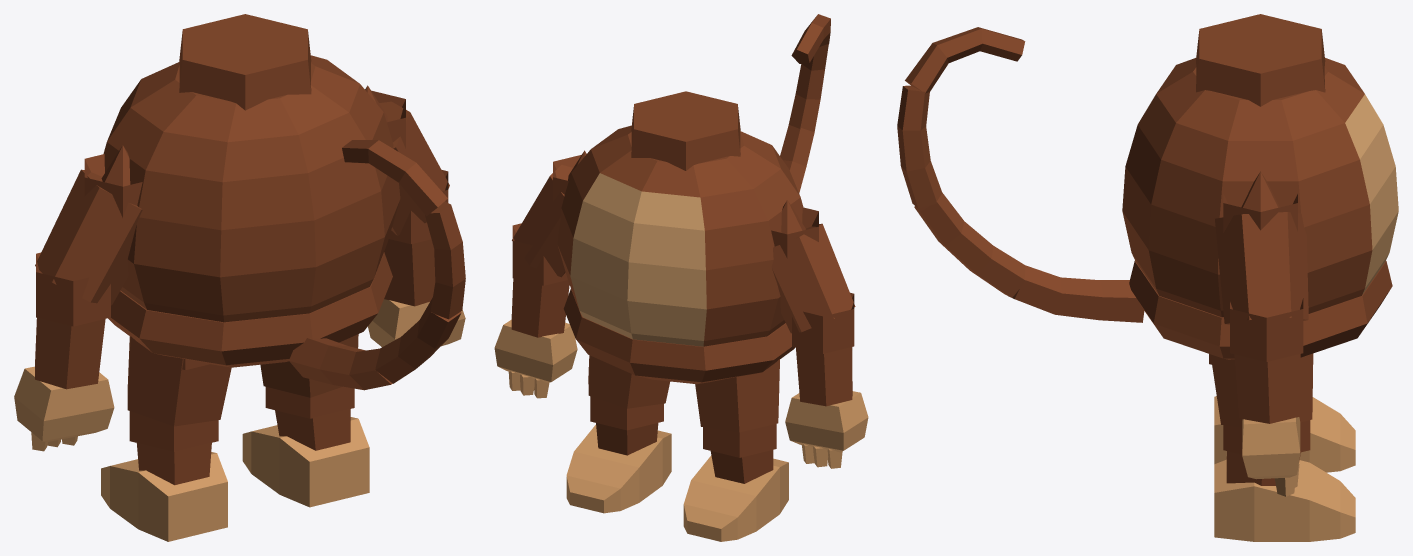
The model's file is ds_monkey_body.glb.
The picture shows the model from 3 angles, left to right: view 1: azimuth 30°, elevation 25°; view 2: azimuth 150°, elevation 25°; view 3: azimuth 270°, elevation 25°; orthographic projection. The views are drawn at different scales.
Parts seen in each view (by area): view 1: DSMonkeyBody_Torso, DSMonkeyBody_Hips, DSMonkeyBody_Arm_L_Upper, DSMonkeyBody_Leg_R_Foot, DSMonkeyBody_Leg_L_Foot, DSMonkeyBody_Arm_L_Fore, DSMonkeyBody_Leg_L_Thigh, DSMonkeyBody_Arm_L_Hand, DSMonkeyBody_Leg_L_Shin, DSMonkeyBody_Leg_R_Shin, DSMonkeyBody_Arm_R_Fore, DSMonkeyBody_Tail_1 (+6 smaller); view 2: DSMonkeyBody_Torso, DSMonkeyBody_Hips, DSMonkeyBody_Arm_L_Upper, DSMonkeyBody_Leg_R_Foot, DSMonkeyBody_Leg_L_Foot, DSMonkeyBody_Arm_L_Fore, DSMonkeyBody_Leg_L_Thigh, DSMonkeyBody_Arm_L_Hand, DSMonkeyBody_Arm_R_Hand, DSMonkeyBody_Arm_R_Fore, DSMonkeyBody_Arm_R_Upper, DSMonkeyBody_Leg_L_Shin (+5 smaller); view 3: DSMonkeyBody_Torso, DSMonkeyBody_Arm_R_Upper, DSMonkeyBody_Leg_R_Foot, DSMonkeyBody_Hips, DSMonkeyBody_Arm_R_Fore, DSMonkeyBody_Tail_1, DSMonkeyBody_Tail_2, DSMonkeyBody_Arm_R_Hand, DSMonkeyBody_Tail_3, DSMonkeyBody_Leg_L_Foot, DSMonkeyBody_Tail_4, DSMonkeyBody_Leg_R_Thigh (+1 smaller).
Boxes of the visible parts, x1=… form: DSMonkeyBody_Torso: x1=103, y1=14, x2=400, y2=322; DSMonkeyBody_Hips: x1=108, y1=252, x2=392, y2=367; DSMonkeyBody_Arm_L_Upper: x1=35, y1=145, x2=142, y2=305; DSMonkeyBody_Leg_R_Foot: x1=242, y1=417, x2=369, y2=507; DSMonkeyBody_Leg_L_Foot: x1=101, y1=452, x2=227, y2=541; DSMonkeyBody_Arm_L_Fore: x1=35, y1=252, x2=110, y2=389; DSMonkeyBody_Leg_L_Thigh: x1=127, y1=336, x2=231, y2=426; DSMonkeyBody_Arm_L_Hand: x1=14, y1=366, x2=114, y2=451; DSMonkeyBody_Leg_L_Shin: x1=129, y1=411, x2=218, y2=485; DSMonkeyBody_Leg_R_Shin: x1=265, y1=386, x2=354, y2=450; DSMonkeyBody_Arm_R_Fore: x1=384, y1=170, x2=448, y2=306; DSMonkeyBody_Tail_1: x1=289, y1=338, x2=392, y2=390; DSMonkeyBody_Torso: x1=557, y1=91, x2=803, y2=346; DSMonkeyBody_Hips: x1=563, y1=289, x2=795, y2=384; DSMonkeyBody_Arm_L_Upper: x1=771, y1=200, x2=855, y2=333; DSMonkeyBody_Leg_R_Foot: x1=566, y1=425, x2=671, y2=513; DSMonkeyBody_Leg_L_Foot: x1=683, y1=455, x2=788, y2=541; DSMonkeyBody_Arm_L_Fore: x1=792, y1=292, x2=854, y2=406; DSMonkeyBody_Leg_L_Thigh: x1=695, y1=359, x2=779, y2=432; DSMonkeyBody_Arm_L_Hand: x1=785, y1=391, x2=868, y2=468; DSMonkeyBody_Arm_R_Hand: x1=494, y1=319, x2=577, y2=398; DSMonkeyBody_Arm_R_Fore: x1=511, y1=223, x2=569, y2=337; DSMonkeyBody_Arm_R_Upper: x1=512, y1=150, x2=586, y2=277; DSMonkeyBody_Leg_L_Shin: x1=703, y1=424, x2=776, y2=483; DSMonkeyBody_Torso: x1=1122, y1=14, x2=1398, y2=317; DSMonkeyBody_Arm_R_Upper: x1=1215, y1=171, x2=1308, y2=324; DSMonkeyBody_Leg_R_Foot: x1=1214, y1=459, x2=1355, y2=541; DSMonkeyBody_Hips: x1=1129, y1=261, x2=1392, y2=359; DSMonkeyBody_Arm_R_Fore: x1=1230, y1=298, x2=1303, y2=423; DSMonkeyBody_Tail_1: x1=1008, y1=265, x2=1144, y2=322; DSMonkeyBody_Tail_2: x1=914, y1=193, x2=1025, y2=297; DSMonkeyBody_Arm_R_Hand: x1=1242, y1=417, x2=1300, y2=496; DSMonkeyBody_Tail_3: x1=897, y1=85, x2=942, y2=208; DSMonkeyBody_Leg_L_Foot: x1=1214, y1=396, x2=1355, y2=472; DSMonkeyBody_Tail_4: x1=905, y1=27, x2=1025, y2=93; DSMonkeyBody_Leg_R_Thigh: x1=1209, y1=353, x2=1313, y2=427.
Size of the model in its own units: 0.31 by 0.3278 by 0.3266.
